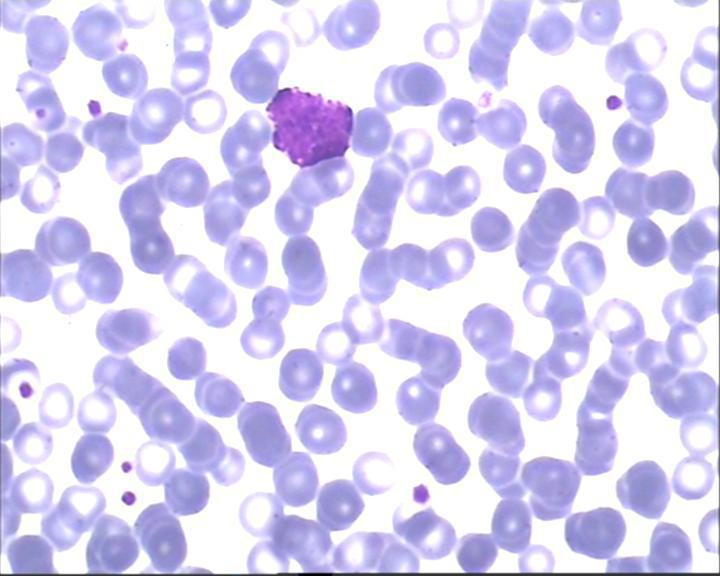baso: (261, 79, 359, 170)
